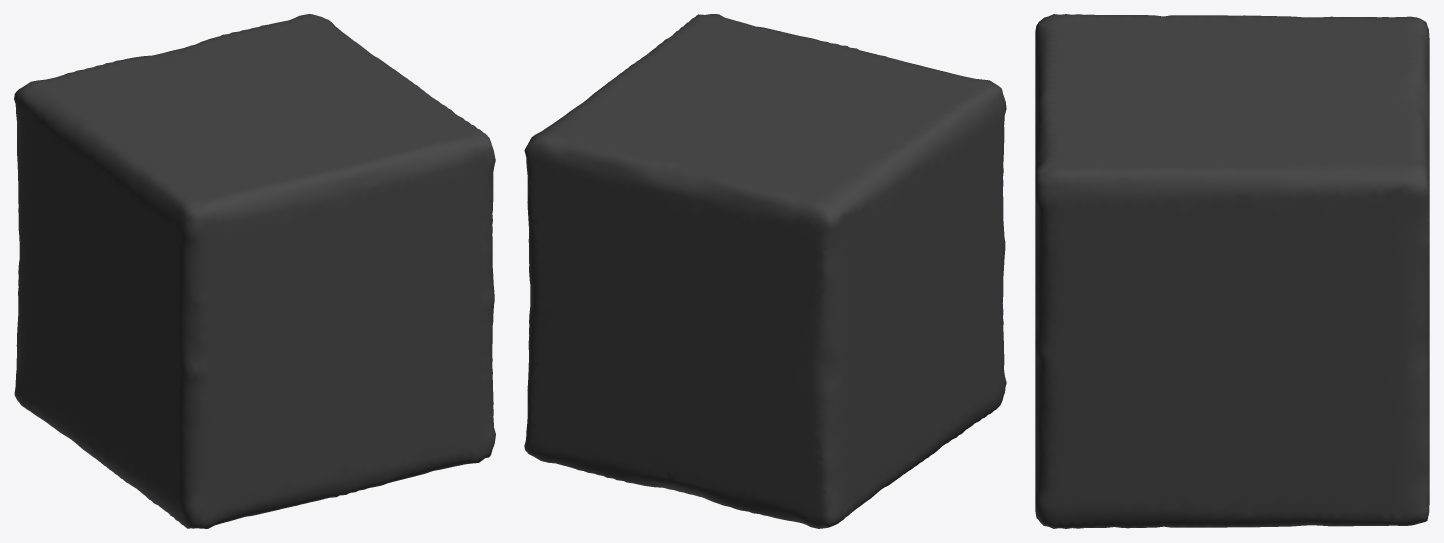
Rendered from Blockfbx.fbx.
The picture shows the model from 3 angles, left to right: view 1: azimuth 30°, elevation 25°; view 2: azimuth 150°, elevation 25°; view 3: azimuth 270°, elevation 25°; orthographic projection. The views are drawn at different scales.
Parts seen in each view (by area): view 1: Cube; view 2: Cube; view 3: Cube.
Part boxes in pixels (x1=…): Cube: x1=14, y1=14, x2=495, y2=528; Cube: x1=524, y1=14, x2=1006, y2=528; Cube: x1=1035, y1=14, x2=1429, y2=528.
Size of the model in its own units: 200 by 200 by 200.
